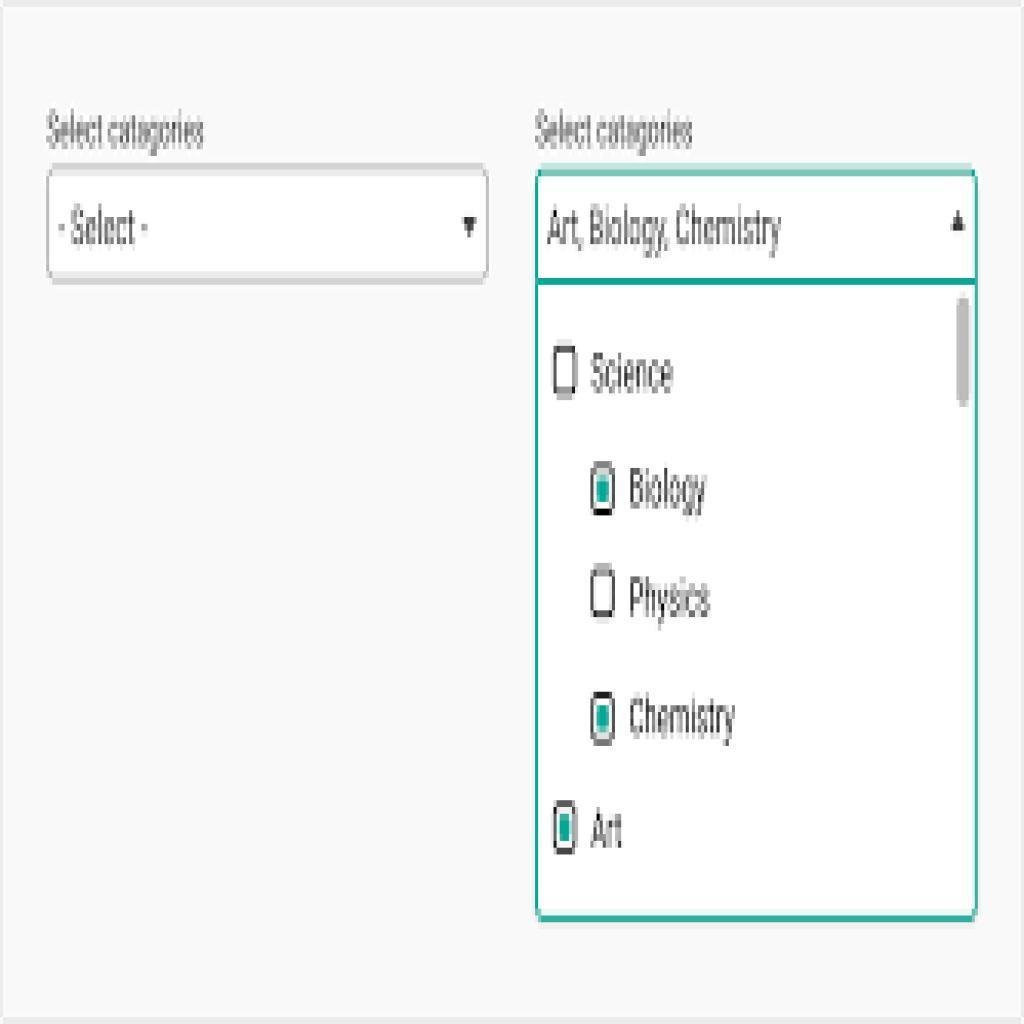checkbox: (590, 566, 617, 620), (553, 345, 579, 400), (555, 801, 579, 858), (592, 691, 617, 745), (591, 464, 616, 516)
dropdown: (533, 168, 980, 284), (49, 167, 489, 282)
